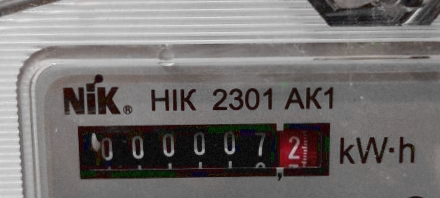0: (159, 130, 178, 158), (129, 132, 147, 160), (221, 128, 238, 156), (98, 134, 115, 161), (191, 129, 207, 156)
2: (286, 132, 303, 161)
7: (251, 129, 268, 158)
screen: (69, 112, 343, 186)
